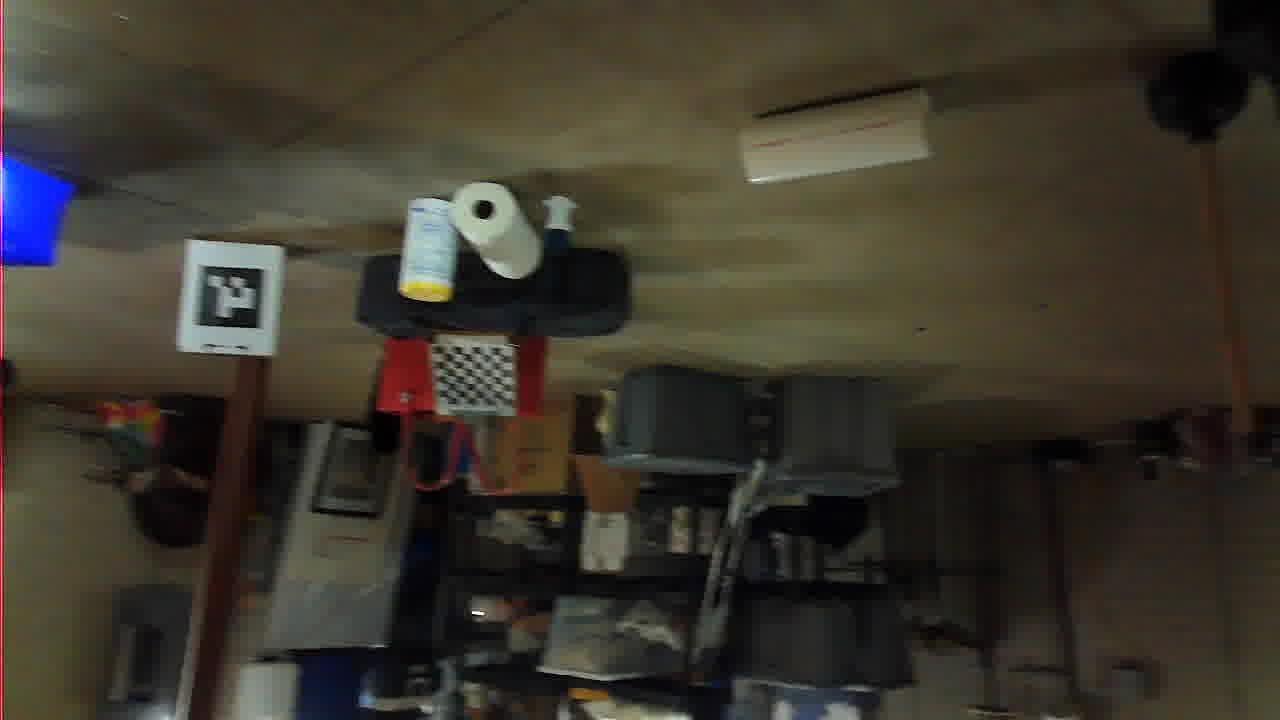coral: (347, 536, 540, 632)
